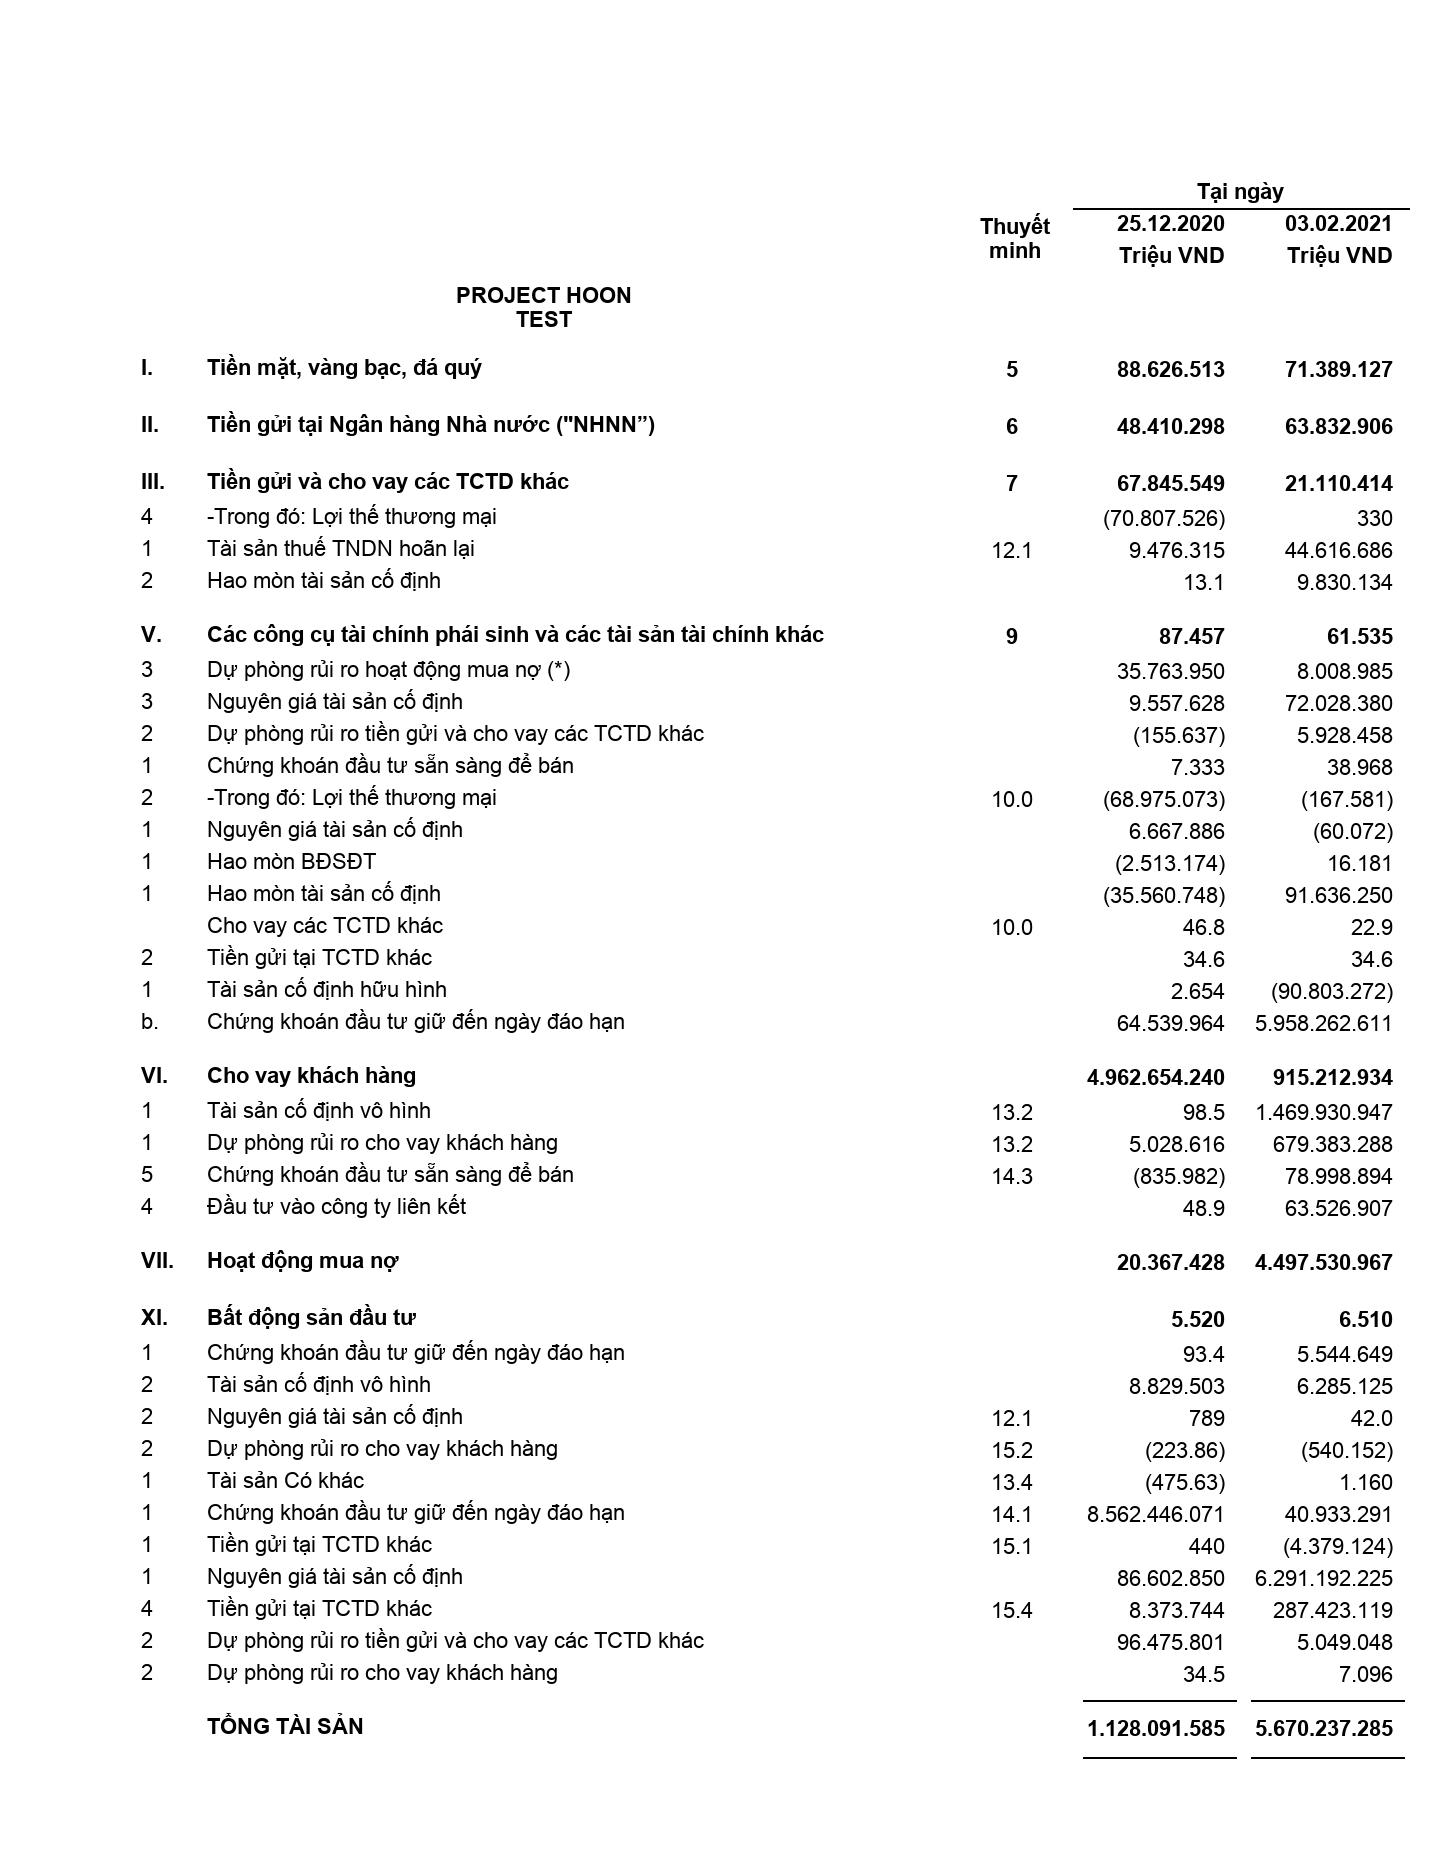table: (131, 147, 1411, 1771)
table column: (198, 147, 958, 1771), (1240, 147, 1411, 1771), (1073, 147, 1240, 1771), (958, 147, 1073, 1771), (131, 147, 198, 1771)
table column header: (131, 147, 1411, 284)
table projected row header: (131, 284, 1411, 342)
table row: (131, 1701, 1411, 1771), (131, 147, 1411, 208), (131, 284, 1411, 342), (131, 398, 1411, 456), (131, 1234, 1411, 1292), (131, 342, 1411, 398), (131, 608, 1411, 654), (131, 1005, 1411, 1050), (131, 240, 1411, 284), (131, 456, 1411, 500), (131, 564, 1411, 608), (131, 1050, 1411, 1094), (131, 1190, 1411, 1234), (131, 1292, 1411, 1336), (131, 1657, 1411, 1701), (131, 1591, 1411, 1625), (131, 208, 1411, 240), (131, 500, 1411, 532), (131, 532, 1411, 564), (131, 654, 1411, 685), (131, 685, 1411, 717), (131, 717, 1411, 749), (131, 749, 1411, 781), (131, 781, 1411, 813), (131, 813, 1411, 845), (131, 845, 1411, 877), (131, 877, 1411, 909), (131, 909, 1411, 941), (131, 941, 1411, 973), (131, 973, 1411, 1005), (131, 1094, 1411, 1126), (131, 1126, 1411, 1158), (131, 1158, 1411, 1190), (131, 1336, 1411, 1368), (131, 1368, 1411, 1400), (131, 1400, 1411, 1432), (131, 1432, 1411, 1464), (131, 1464, 1411, 1496), (131, 1496, 1411, 1527), (131, 1527, 1411, 1559), (131, 1559, 1411, 1591), (131, 1625, 1411, 1657)
table spanning cell: (131, 284, 958, 342), (1073, 147, 1411, 208), (958, 147, 1073, 284)
